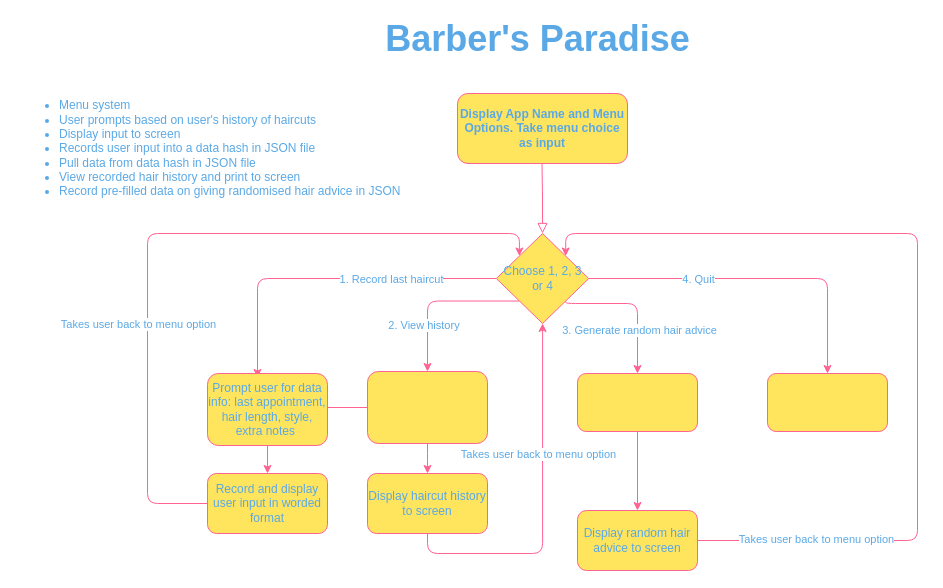
Image size: 943x588. Some labels were removed from this diagram. The shapes that lost their labels are listed below. From the top down, each one's box as (x1, y1, x2, y2) in pixels, then its label:
(366, 370, 488, 444): View recorded input
(576, 372, 698, 432): Pull random sample data from 'advice' array in JSON file
(766, 372, 888, 432): Exits application
